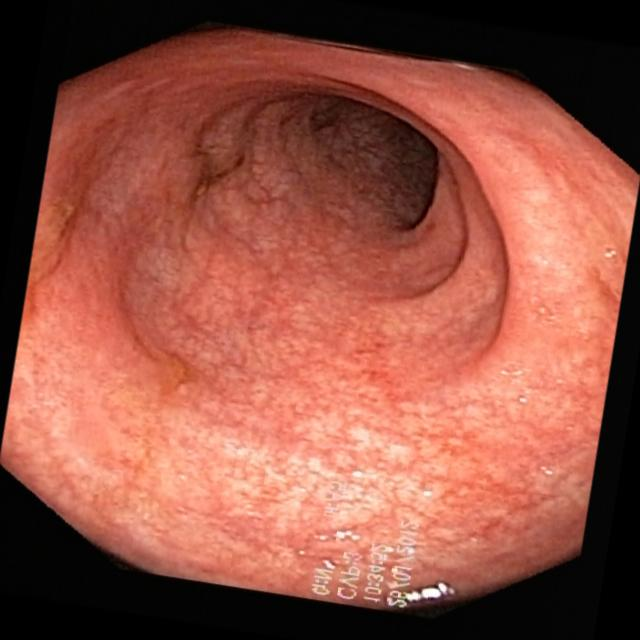ulcerative-colities: (76, 337, 205, 541), (173, 124, 279, 207)
